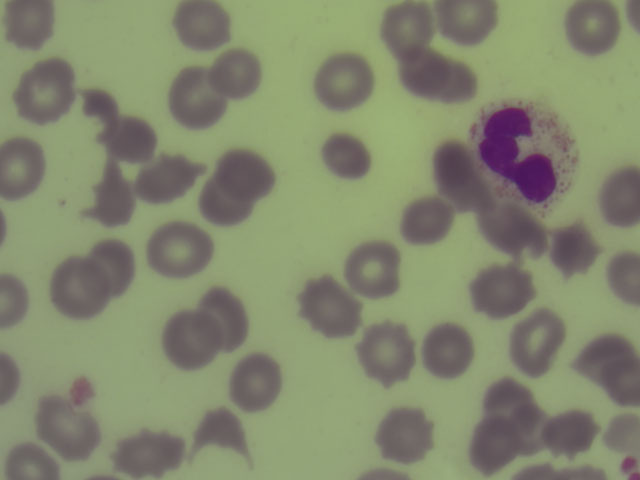RBC: (130, 151, 205, 206), (145, 221, 211, 278), (106, 428, 184, 476), (435, 140, 481, 210), (486, 377, 545, 430), (1, 138, 51, 199), (18, 62, 71, 119), (203, 287, 248, 352), (482, 206, 546, 251), (217, 148, 276, 196), (174, 1, 235, 46), (403, 196, 454, 248), (541, 407, 592, 459), (471, 419, 522, 471), (511, 312, 562, 364), (475, 265, 526, 317), (424, 322, 475, 374), (377, 409, 428, 461), (360, 325, 411, 377), (304, 278, 355, 330), (320, 131, 371, 183), (229, 356, 280, 408), (194, 403, 245, 455), (41, 398, 92, 450), (162, 314, 213, 366), (413, 51, 464, 103), (380, 4, 431, 56), (85, 238, 136, 290), (47, 263, 98, 315), (87, 171, 138, 223), (105, 110, 156, 162), (170, 71, 221, 123), (210, 47, 261, 99), (320, 53, 371, 105), (553, 223, 604, 275), (572, 332, 632, 376), (1, 1, 57, 48), (566, 1, 617, 52), (437, 1, 503, 40), (199, 181, 252, 228), (600, 166, 640, 224), (8, 444, 62, 480), (605, 248, 640, 302), (607, 351, 640, 407), (1, 273, 30, 329), (1, 352, 25, 410)
WBC: (473, 102, 571, 213)
